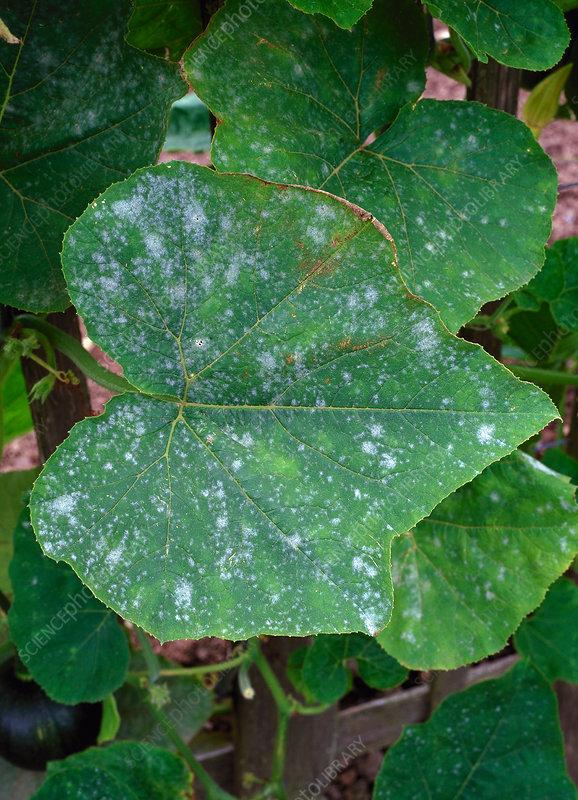Squash Powdery mildew leaf: (22, 165, 565, 647)
